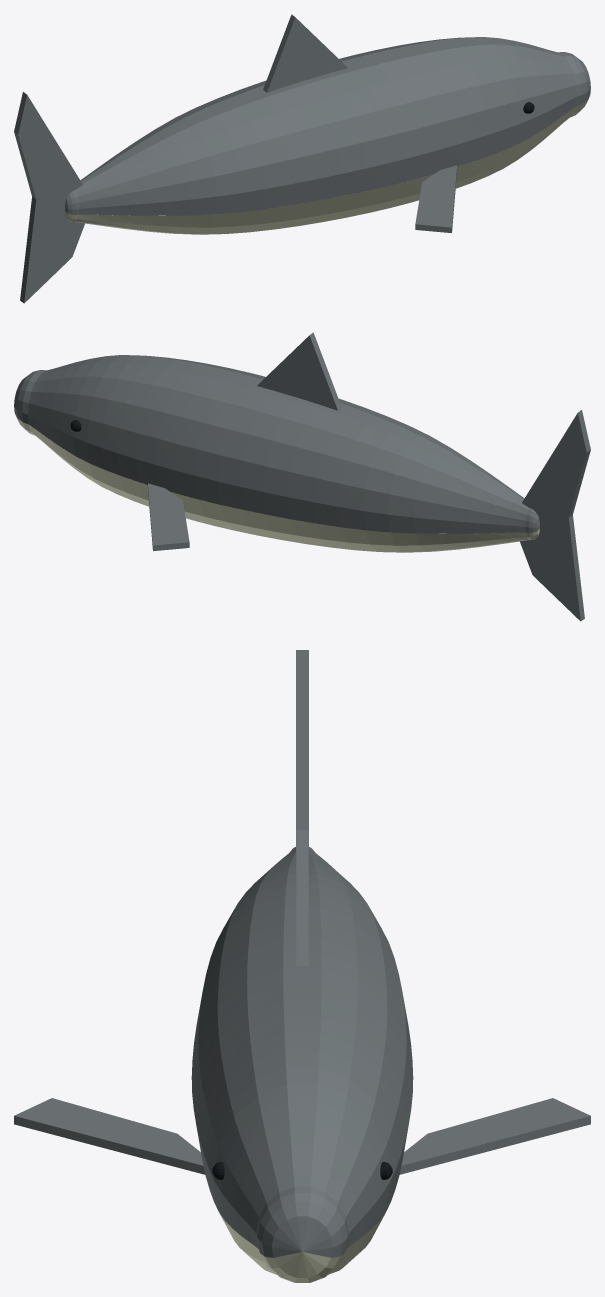
Rendered from great-white-shark.dae.
3 views of the same model, one above another, from view 1: azimuth 30°, elevation 25°; view 2: azimuth 150°, elevation 25°; view 3: azimuth 270°, elevation 25° (orthographic). The views are drawn at different scales.
Parts seen in each view (by area): view 1: part2-node, part1-node; view 2: part2-node, part1-node; view 3: part2-node, part1-node.
Boxes of the visible parts, left/top/right/bottom form: part2-node: left=14, top=14, right=590, bottom=303; part1-node: left=65, top=96, right=589, bottom=234; part2-node: left=14, top=332, right=590, bottom=621; part1-node: left=15, top=414, right=539, bottom=552; part2-node: left=14, top=650, right=590, bottom=1257; part1-node: left=219, top=1213, right=385, bottom=1282.
Bounding box in the file's own units: 4.5 × 2.6 × 1.66.
